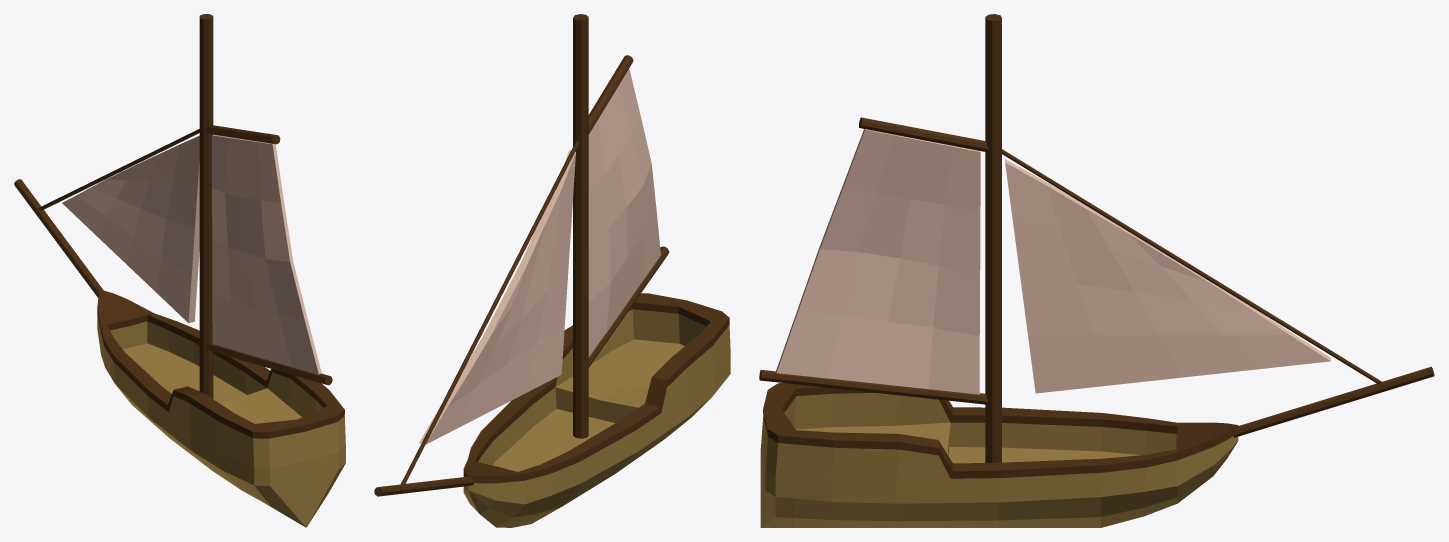
File: _arco.fbx
The picture shows the model from 3 angles, left to right: view 1: azimuth 30°, elevation 25°; view 2: azimuth 150°, elevation 25°; view 3: azimuth 270°, elevation 25°; orthographic projection. The views are drawn at different scales.
Visible parts, largest first — view 1: vela.001, corpo.001, vela, corpo, mastro, corrimao.001, corrimao, mastro.001, Cylinder.002, Cylinder.004, Cylinder.003; view 2: vela, vela.001, corpo.001, corpo, mastro, corrimao, corrimao.001, Cylinder.004, mastro.001, Cylinder.002, Cylinder.003; view 3: vela.001, vela, corpo.001, corpo, mastro, corrimao, corrimao.001, Cylinder.002, mastro.001, Cylinder.004, Cylinder.003.
Boxes of the visible parts, box(x1,y1,x2,y2) form: vela.001: box(212, 134, 321, 374); corpo.001: box(158, 372, 345, 527); vela: box(62, 135, 199, 323); corpo: box(97, 314, 256, 445); mastro: box(199, 14, 213, 398); corrimao.001: box(157, 369, 344, 438); corrimao: box(97, 290, 268, 403); mastro.001: box(14, 179, 103, 297); Cylinder.002: box(205, 341, 332, 385); Cylinder.004: box(38, 129, 199, 210); Cylinder.003: box(205, 125, 280, 144); vela: box(419, 150, 575, 444); vela.001: box(588, 68, 660, 357); corpo.001: box(544, 309, 730, 463); corpo: box(463, 396, 650, 527); mastro: box(573, 14, 588, 438); corrimao: box(463, 388, 648, 483); corrimao.001: box(537, 293, 729, 421); Cylinder.004: box(401, 141, 579, 485); mastro.001: box(374, 476, 474, 496); Cylinder.002: box(588, 246, 669, 367); Cylinder.003: box(588, 55, 633, 134); vela.001: box(776, 129, 980, 394); vela: box(1005, 159, 1330, 393); corpo.001: box(760, 393, 975, 527); corpo: box(973, 422, 1238, 527); mastro: box(985, 14, 1001, 462); corrimao: box(976, 407, 1238, 478); corrimao.001: box(763, 383, 977, 478); Cylinder.002: box(759, 370, 988, 404); mastro.001: box(1233, 366, 1434, 437); Cylinder.004: box(1001, 149, 1382, 384); Cylinder.003: box(859, 117, 988, 152).
Size of the model in its own units: 945 by 3439 by 4124.
